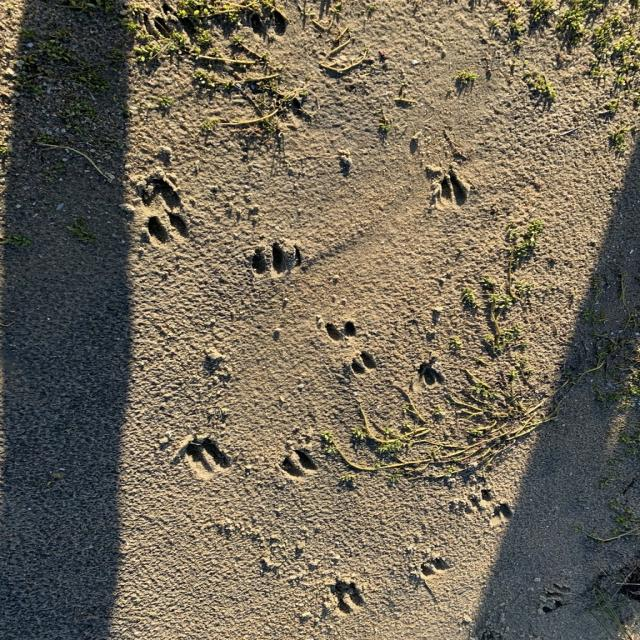deer: (125, 174, 188, 211), (182, 434, 232, 476), (144, 212, 194, 248), (244, 9, 294, 39), (280, 450, 322, 481), (318, 315, 362, 343), (252, 242, 286, 278), (434, 172, 468, 202), (334, 584, 368, 612), (346, 351, 382, 375), (417, 555, 450, 576)
